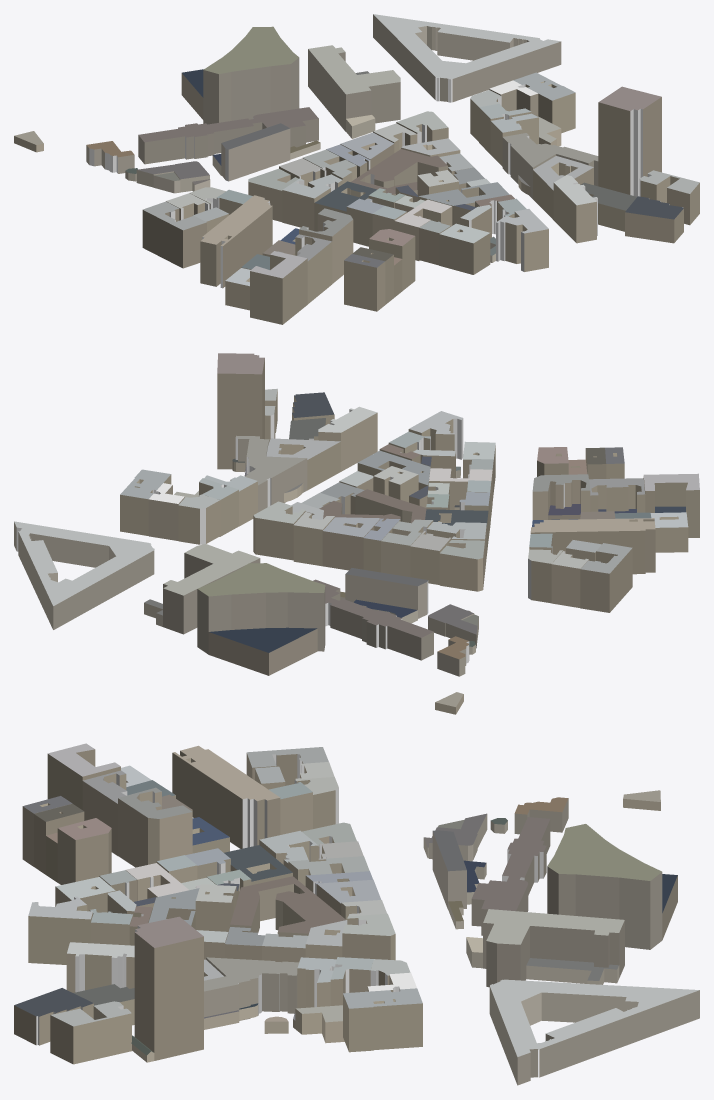
3 views of the same model, one above another, from view 1: azimuth 30°, elevation 25°; view 2: azimuth 150°, elevation 25°; view 3: azimuth 270°, elevation 25° (orthographic). The views are drawn at different scales.
Visible parts, largest first — view 1: tuile; view 2: tuile; view 3: tuile.
Part boxes in pixels (x1,y1,x2,y2): tuile: (14,14,699,324); tuile: (14,353,699,714); tuile: (14,743,699,1085).
Bounding box in the file's own units: 285 × 51.42 × 279.
